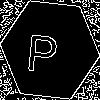P: (25, 25, 60, 74)
